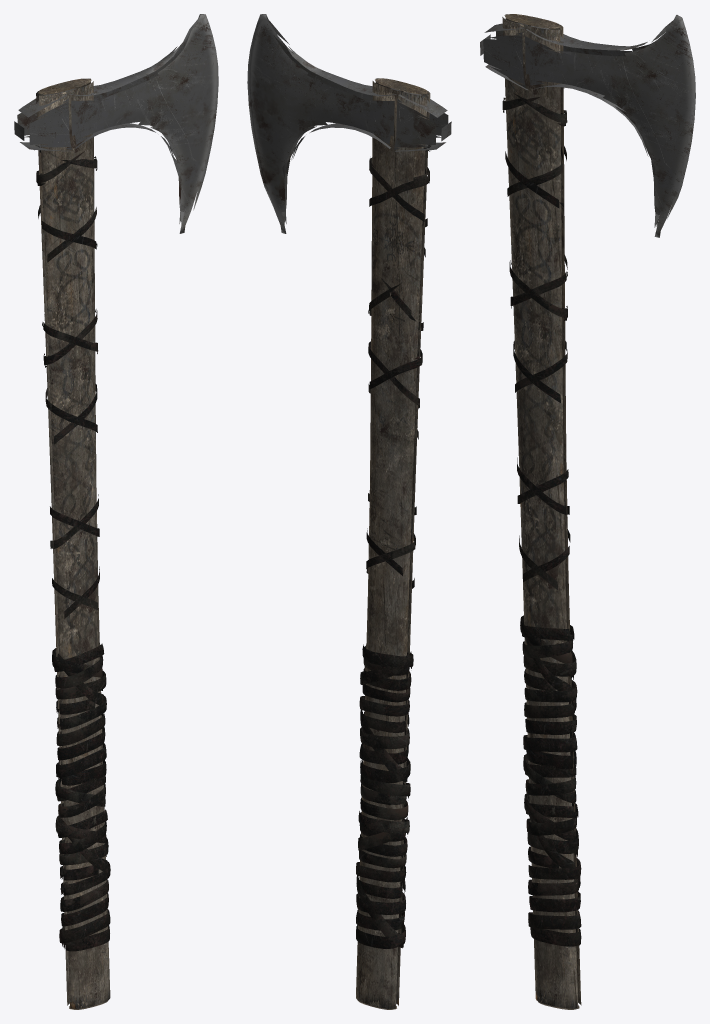
File: burak_axe_long.glb
3 renders of one model, left to right at view 1: azimuth 30°, elevation 25°; view 2: azimuth 150°, elevation 25°; view 3: azimuth 330°, elevation 25°, orthographic. The views are drawn at different scales.
Visible parts, largest first — view 1: Viking_Axe_Mesh__0; view 2: Viking_Axe_Mesh__0; view 3: Viking_Axe_Mesh__0.
Part boxes in pixels (x1,y1,x2,y2): Viking_Axe_Mesh__0: [14, 14, 218, 1009]; Viking_Axe_Mesh__0: [247, 14, 451, 1009]; Viking_Axe_Mesh__0: [480, 14, 695, 1009].
Bounding box in the file's own units: 0.1689 × 0.78 × 0.0246.
1 material, 1 textured.
